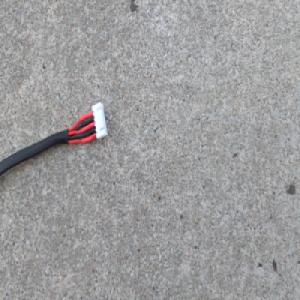Wire: (0, 98, 108, 183)
